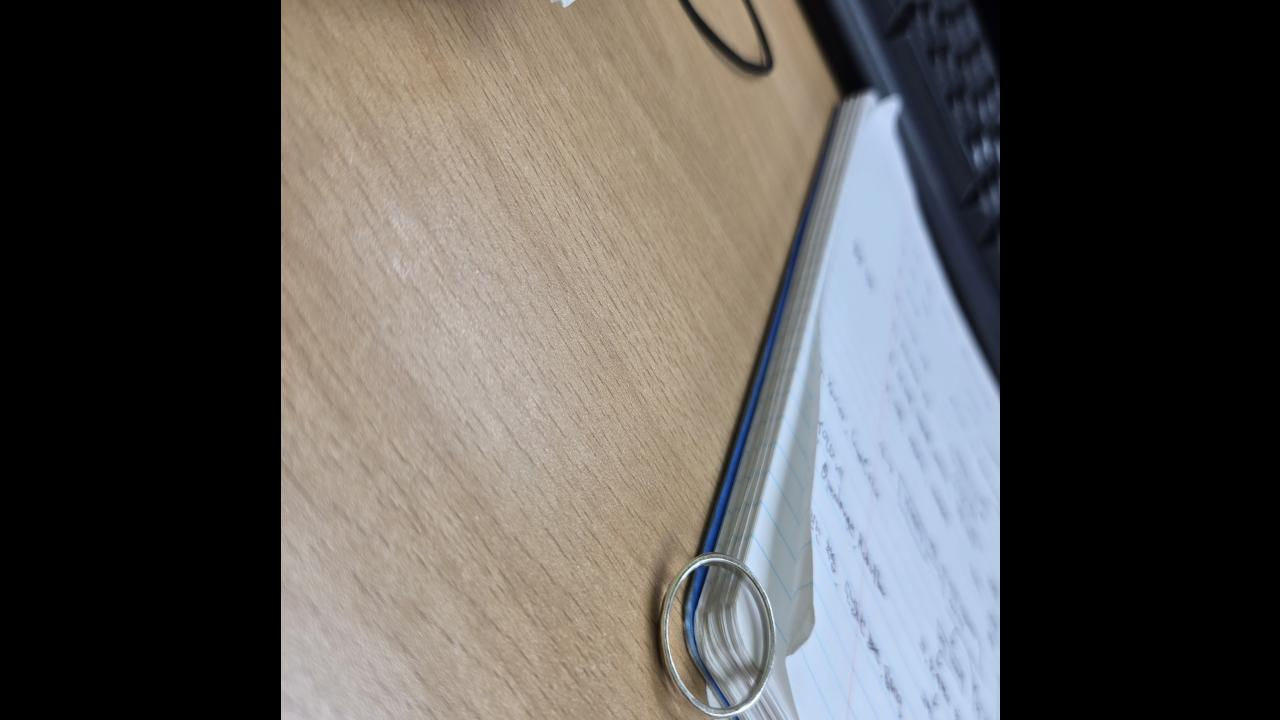ring: (658, 556, 774, 718)
